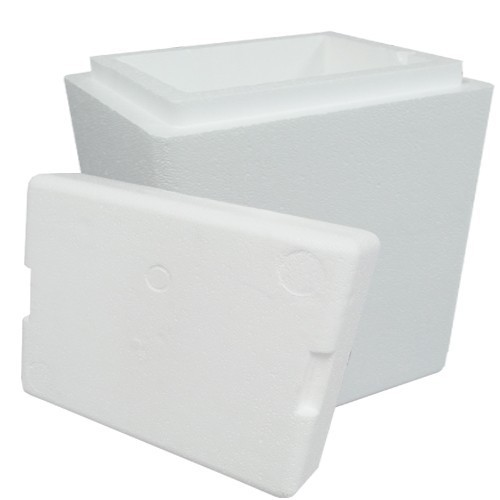Foam Box: (17, 28, 498, 500)
